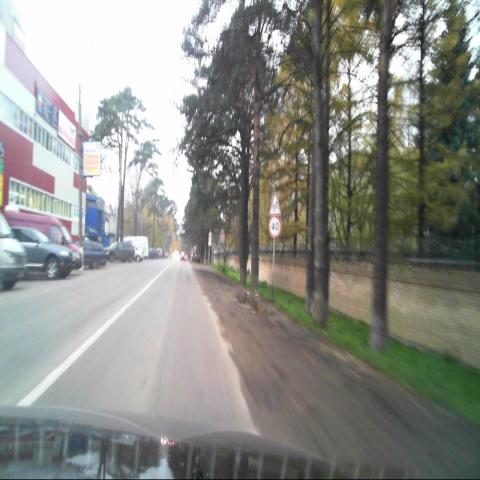1_23: (268, 190, 282, 216)
3_24: (268, 215, 282, 239)
